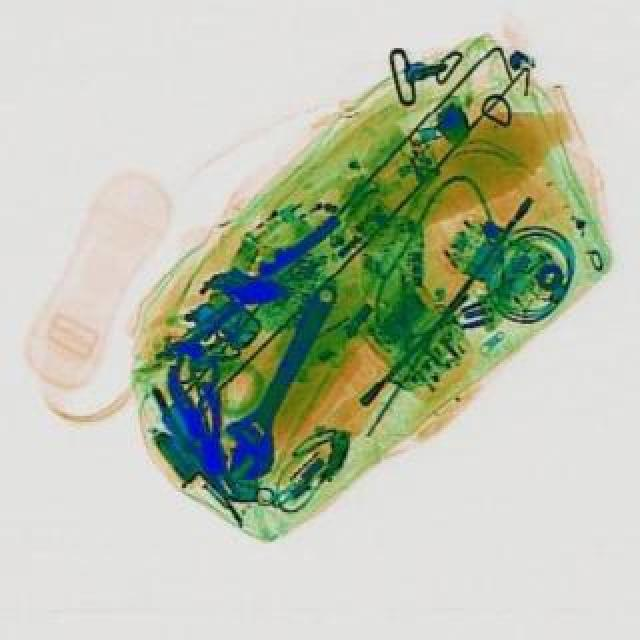scissors: (204, 268, 356, 484)
wrench: (160, 354, 240, 480)
